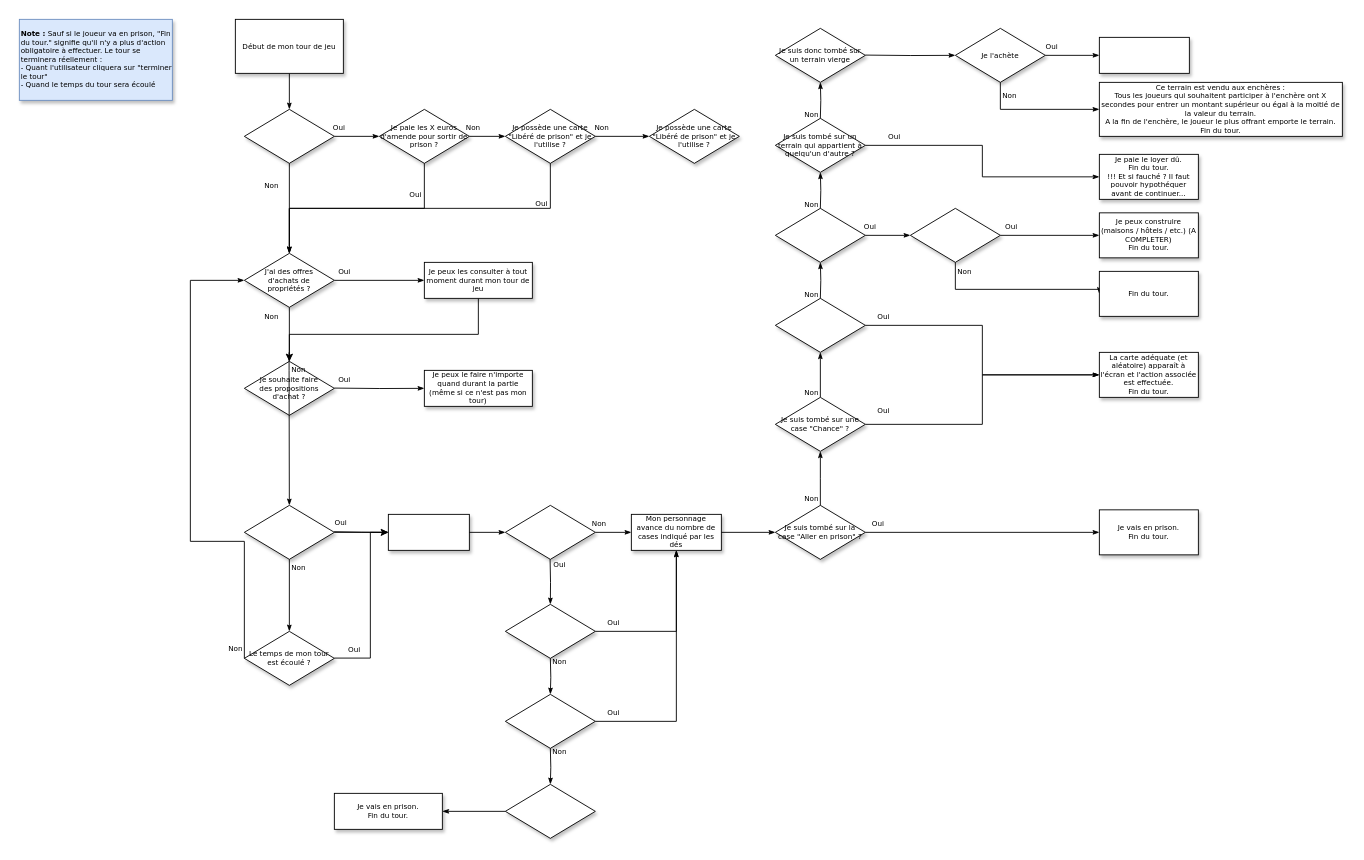
The diagram is 1364 pixels wide and 860 high, and some of its shapes have lost their labels. The shapes that lost their labels are listed below. From the top down, each one's centre as x and y in pixels, then its label:
(x=1145, y=56): Ce terrain m'appartient à présent. Fin du tour.
(x=290, y=137): Je suis en prison ?
(x=821, y=236): Je suis tombé sur un terrain qui m'appartient ?
(x=956, y=236): Je possède tous les terrains de cette couleur ?
(x=821, y=326): Je suis tombé sur une case "Communautaire" ?
(x=290, y=533): Je clique sur "lancer les dés"
(x=429, y=533): Les dés sont lancés et le résultat est affiché
(x=551, y=533): J'ai fait un double ?
(x=551, y=632): Pour la première fois ce tour ?
(x=551, y=722): Pour la deuxième fois ce tour ?
(x=551, y=812): Pour la troisième fois ce tour ?
